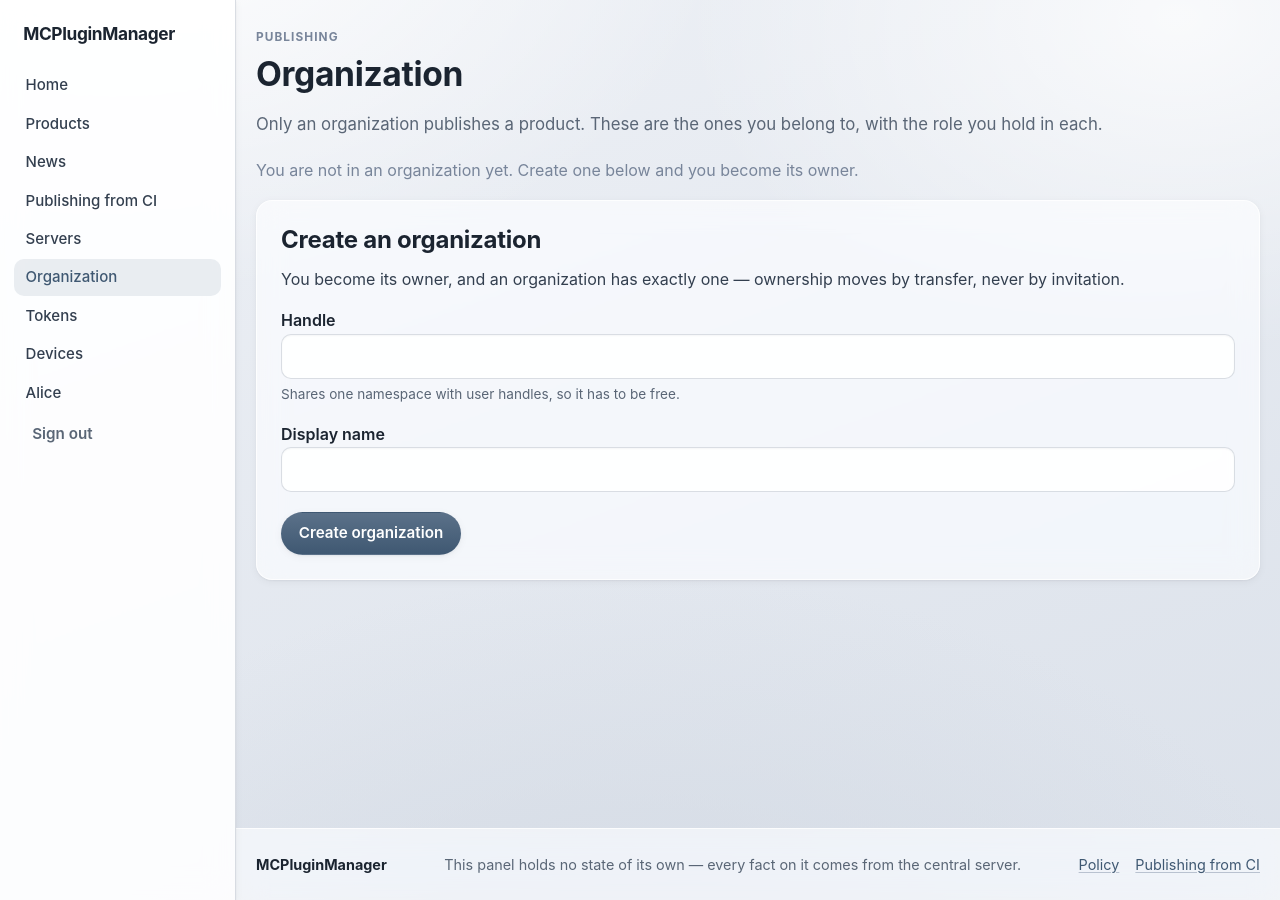
Test: the organization page › creates one and opens its settings
This screenshot has width=1280, height=900.
Type "acme" into the field labelled "Handle" at (758, 357), box [281, 334, 1235, 379]
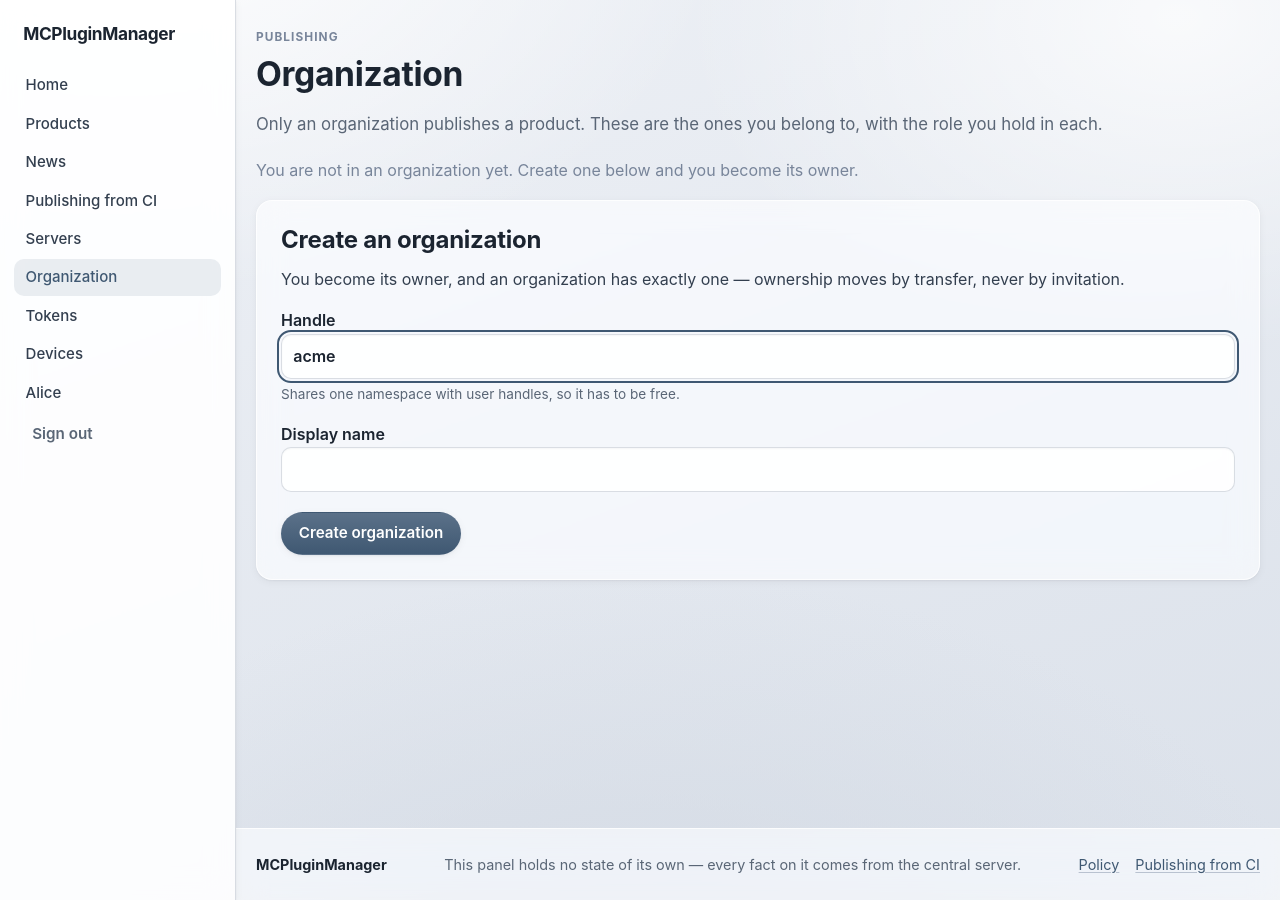
Type "Acme" into the field labelled "Display name" at (758, 470), box [281, 447, 1235, 492]
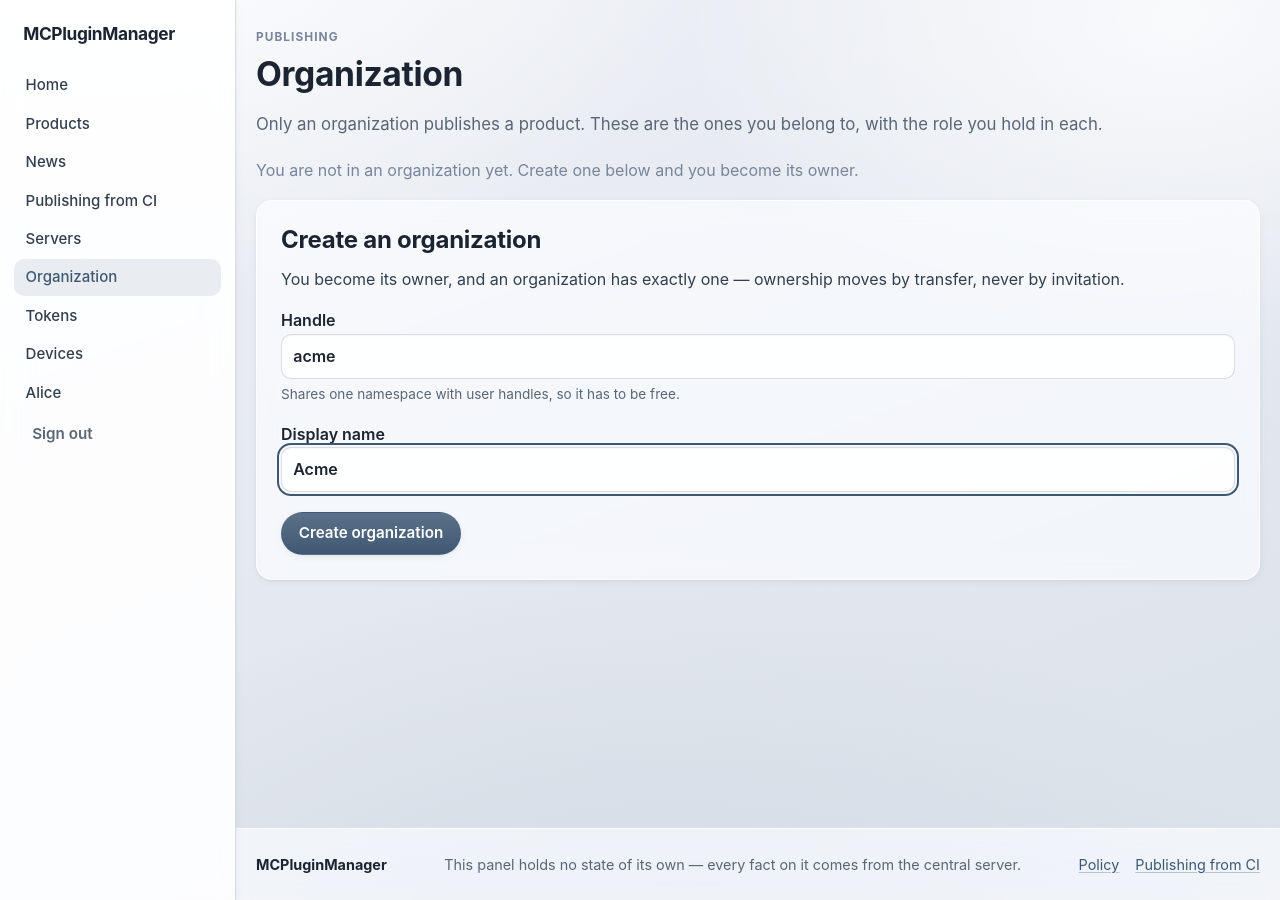
Click the button "Create organization" at (371, 534), box [281, 512, 461, 555]
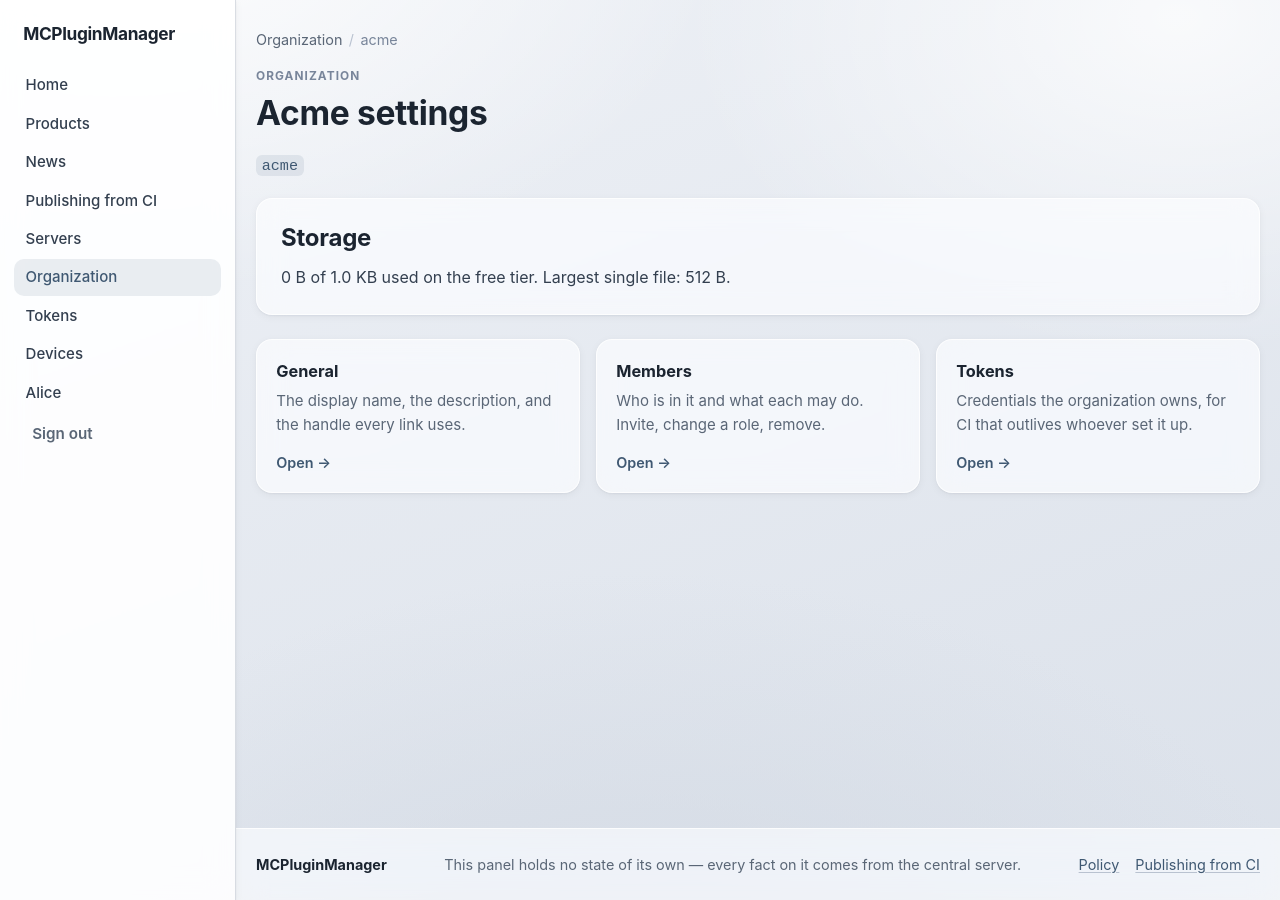
Expected: the heading "Acme settings" is shown, [256, 92, 487, 133]
